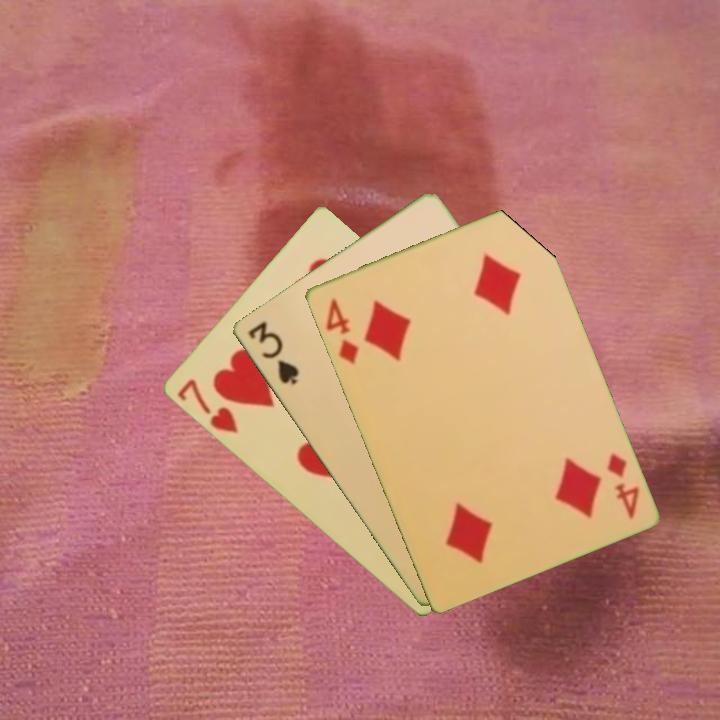3s: (243, 317, 301, 388)
4d: (321, 294, 361, 367), (603, 450, 642, 522)
7h: (172, 375, 241, 437)
